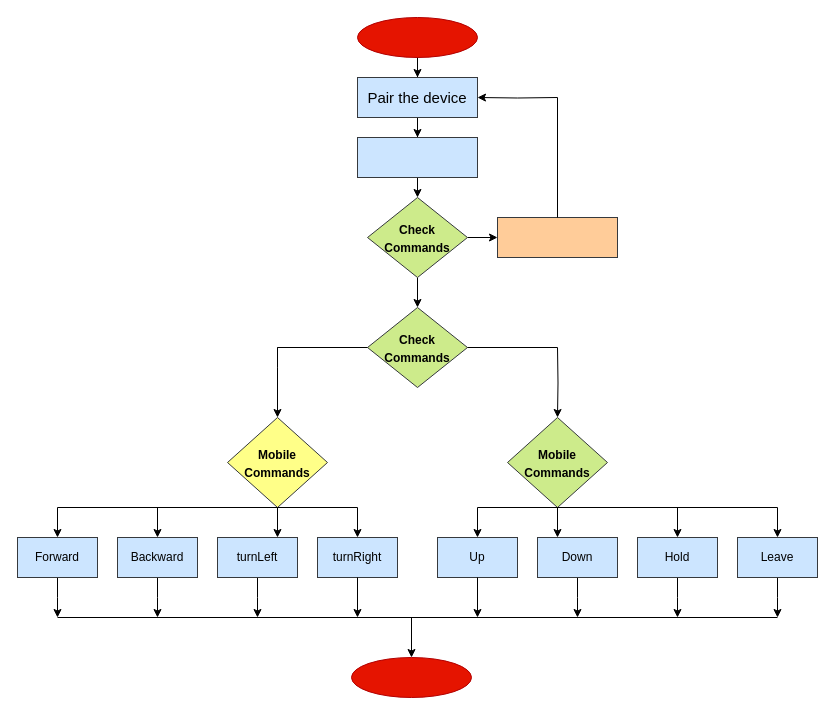
The diagram is 835 pixels wide and 715 high, and some of its shapes have lost their labels. The shapes that lost their labels are listed below. From the top down, each one's box as (x1, y1, x2, y2) in pixels, then its label:
(356, 16, 478, 58): Start
(356, 136, 478, 178): Waiting for User Commands
(496, 216, 618, 258): Ideal State
(350, 656, 472, 698): Stop
